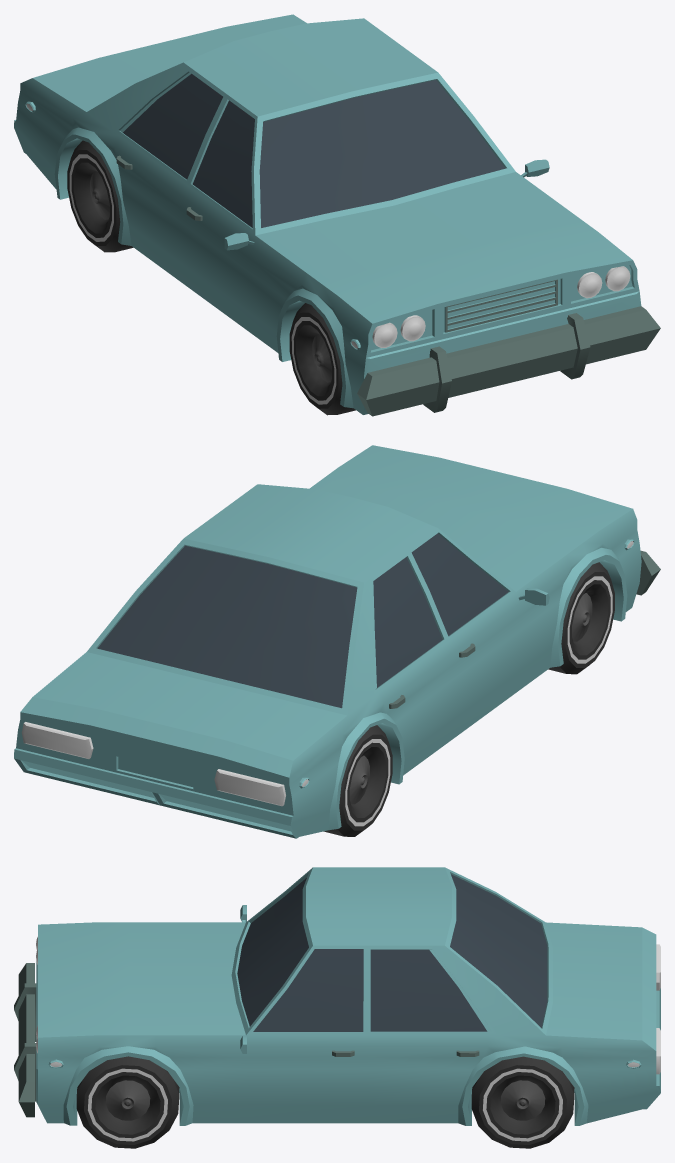
The model's file is car2.fbx.
3 renders of one model, top to bottom at view 1: azimuth 30°, elevation 25°; view 2: azimuth 150°, elevation 25°; view 3: azimuth 270°, elevation 25°, orthographic. The views are drawn at different scales.
Visible parts, largest first — view 1: body, wheelFrR, wheelBcR; view 2: body, wheelFrR, wheelBcR; view 3: body, wheelFrL, wheelBcL.
Part boxes in pixels (bbox=[...]): body: bbox=[14, 14, 660, 416]; wheelFrR: bbox=[289, 303, 355, 415]; wheelBcR: bbox=[67, 140, 133, 252]; body: bbox=[14, 445, 660, 838]; wheelFrR: bbox=[548, 562, 614, 674]; wheelBcR: bbox=[323, 725, 392, 836]; body: bbox=[14, 867, 660, 1125]; wheelFrL: bbox=[76, 1056, 179, 1148]; wheelBcL: bbox=[471, 1056, 574, 1148].
Bounding box in the file's own units: 253 × 161 × 496.
